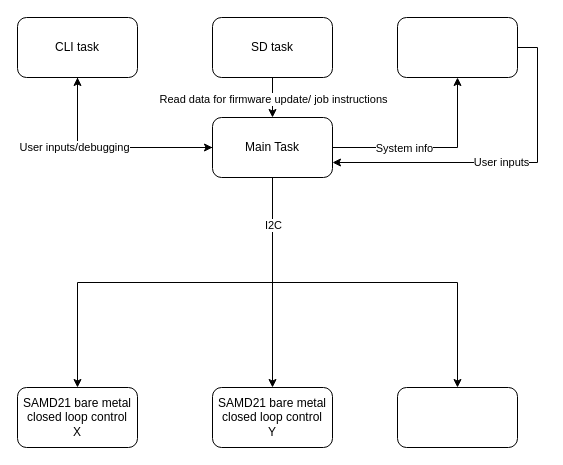
The diagram is 563 pixels wide and 465 high, and some of its shapes have lost their labels. The centre of each missing label's shape, as x and y in pixels:
SAMD21 bare metal closed loop control Z: pixel 457 417
Wifi task: pixel 457 47
